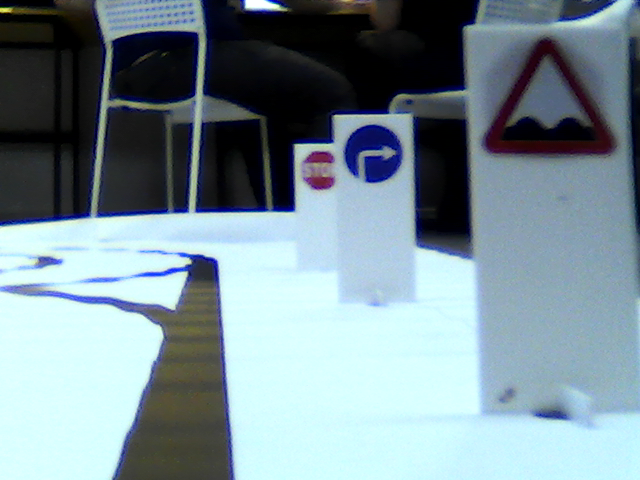Nerov: (483, 36, 615, 155)
Right: (342, 123, 402, 185)
Stop: (301, 147, 337, 192)
